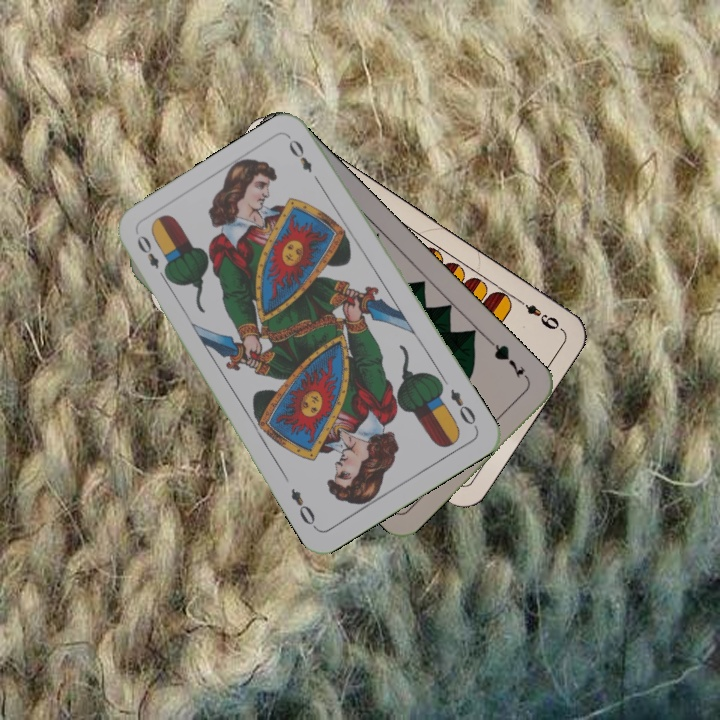E9: (512, 294, 562, 333)
EO: (132, 231, 171, 284), (446, 385, 480, 432)
G7: (486, 336, 532, 384)
